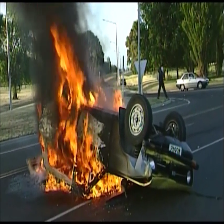fire_h: (36, 24, 105, 183), (83, 172, 123, 199), (44, 172, 71, 192)
fire_l: (111, 89, 123, 113), (38, 135, 46, 157), (35, 158, 46, 172), (35, 101, 42, 116)
